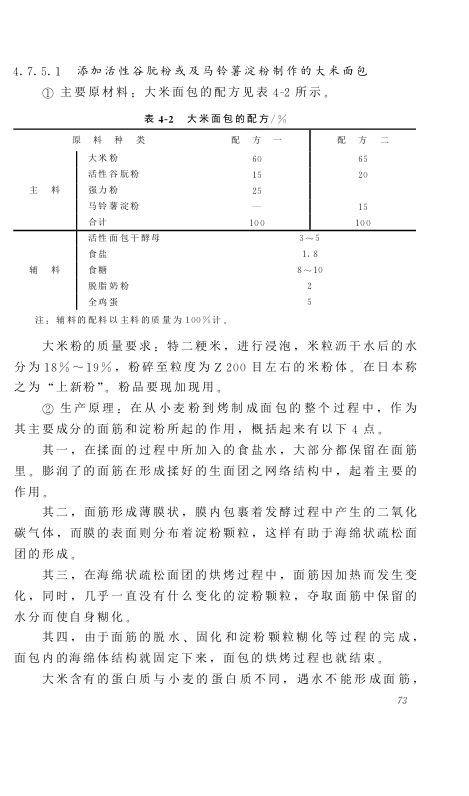table: (13, 128, 417, 310)
